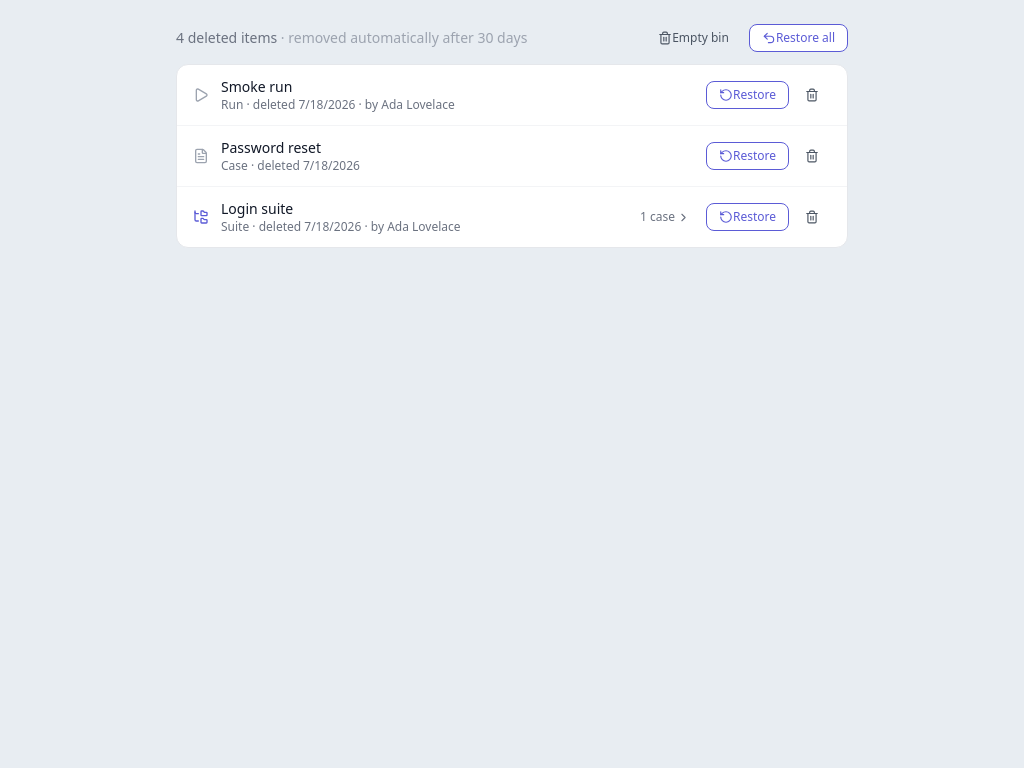
RecycleBin › keeps the row and shows an error toast when restore fails
Click the button with aria-label "restore password reset" at (747, 156), box [706,142,789,170]
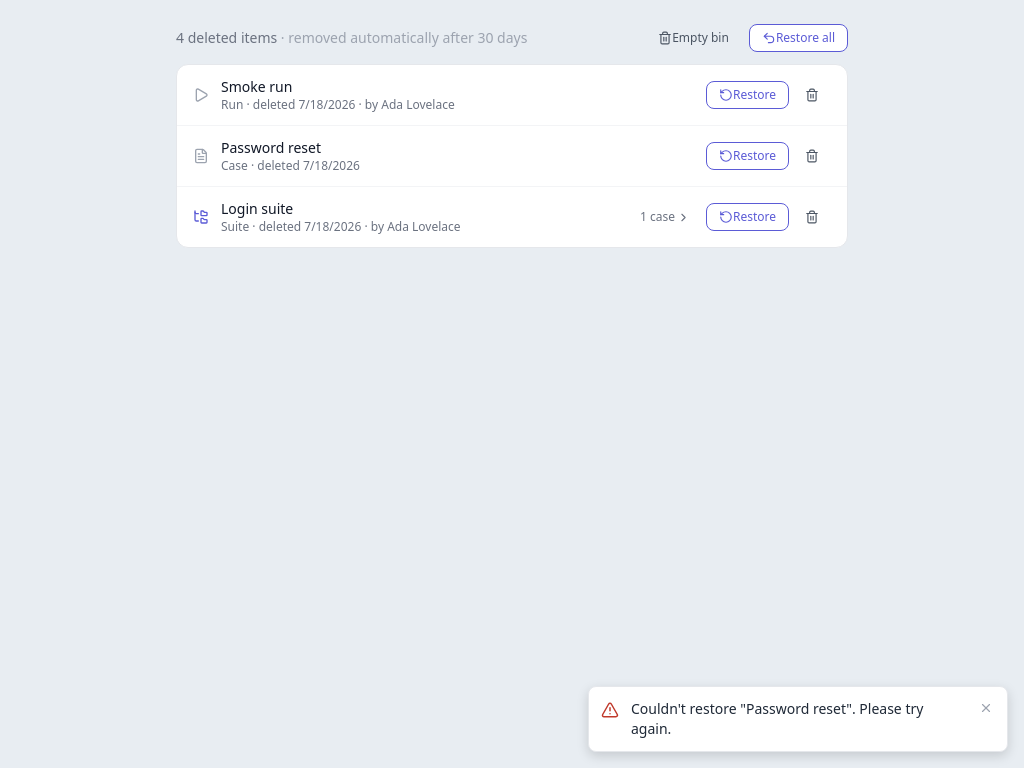
Expected: the text "Password reset" is shown, [221,138,321,157]
Expected: the text "Couldn't restore \"Password reset\". Please try again." is shown, [631,699,965,739]
